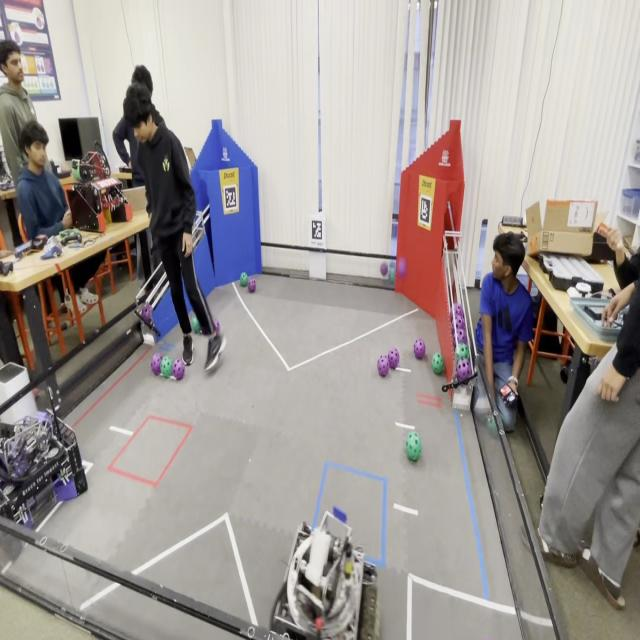artifact_green: (406, 432, 421, 462), (456, 360, 472, 382), (455, 343, 470, 363), (432, 353, 444, 375), (161, 356, 173, 377), (151, 353, 162, 375), (71, 163, 81, 182), (191, 316, 201, 334), (487, 416, 497, 432), (247, 278, 257, 294), (240, 272, 248, 287), (389, 268, 395, 285), (214, 319, 220, 334), (539, 494, 543, 511)
artifact_purple: (456, 359, 472, 381), (173, 359, 185, 380), (414, 339, 426, 360), (151, 353, 162, 375), (141, 304, 152, 324), (388, 349, 399, 369), (378, 356, 389, 376), (397, 257, 406, 278), (456, 328, 467, 343), (247, 278, 257, 294), (453, 303, 463, 317), (380, 262, 388, 277), (455, 316, 465, 328), (214, 320, 220, 334), (451, 320, 456, 335)
